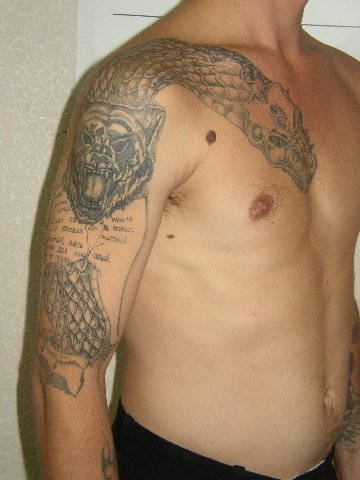tatu7_zmeya: (66, 42, 325, 232)
